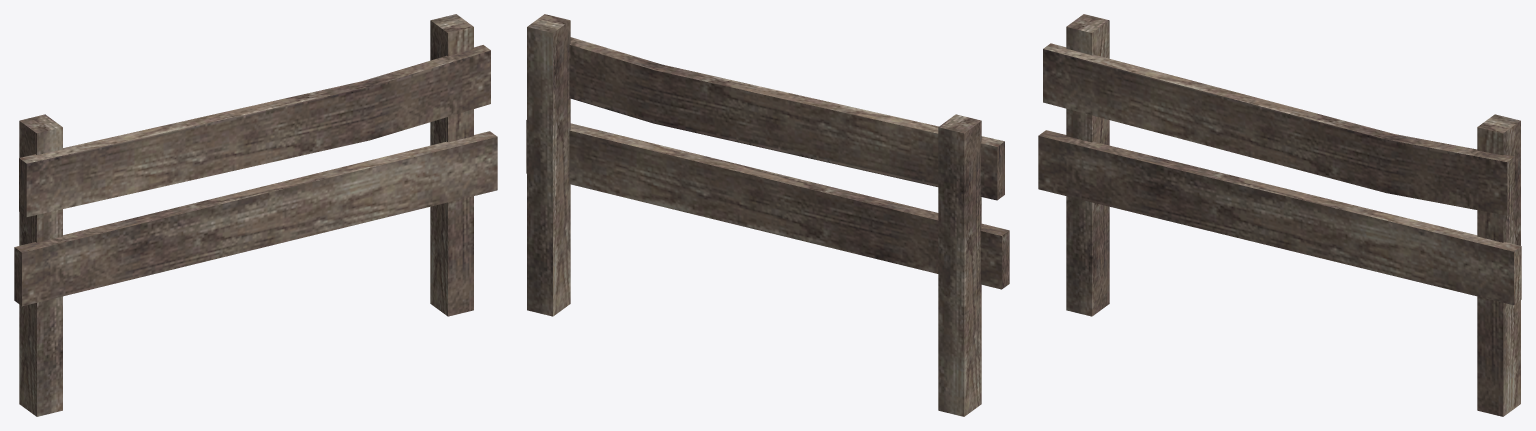
The model's file is Prop_Handrail01.glb.
3 views of the same model, side by side, from view 1: azimuth 30°, elevation 25°; view 2: azimuth 150°, elevation 25°; view 3: azimuth 330°, elevation 25° (orthographic).
Visible parts, largest first — view 1: xiutz_handrail01; view 2: xiutz_handrail01; view 3: xiutz_handrail01.
Boxes of the visible parts, <box> form: xiutz_handrail01: <box>14,14,497,416</box>; xiutz_handrail01: <box>526,14,1009,416</box>; xiutz_handrail01: <box>1038,14,1521,416</box>.
Bounding box in the file's own units: 2.74 × 1.56 × 0.2407.
1 material, 1 textured.
